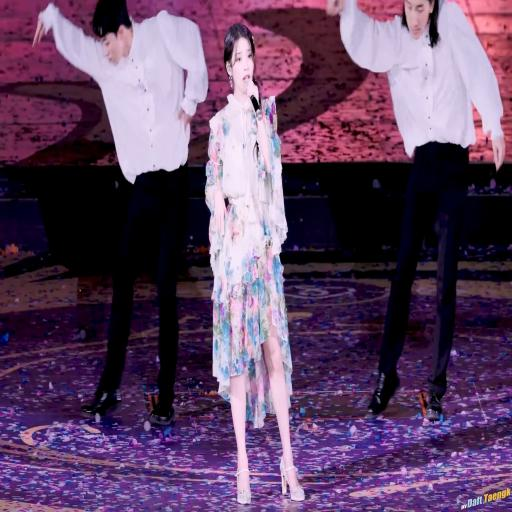IU: (224, 25, 257, 96)
